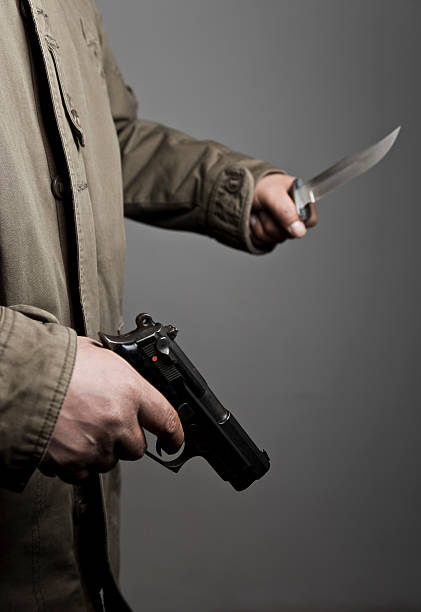gun: (99, 312, 273, 497)
knife: (288, 125, 406, 222)
